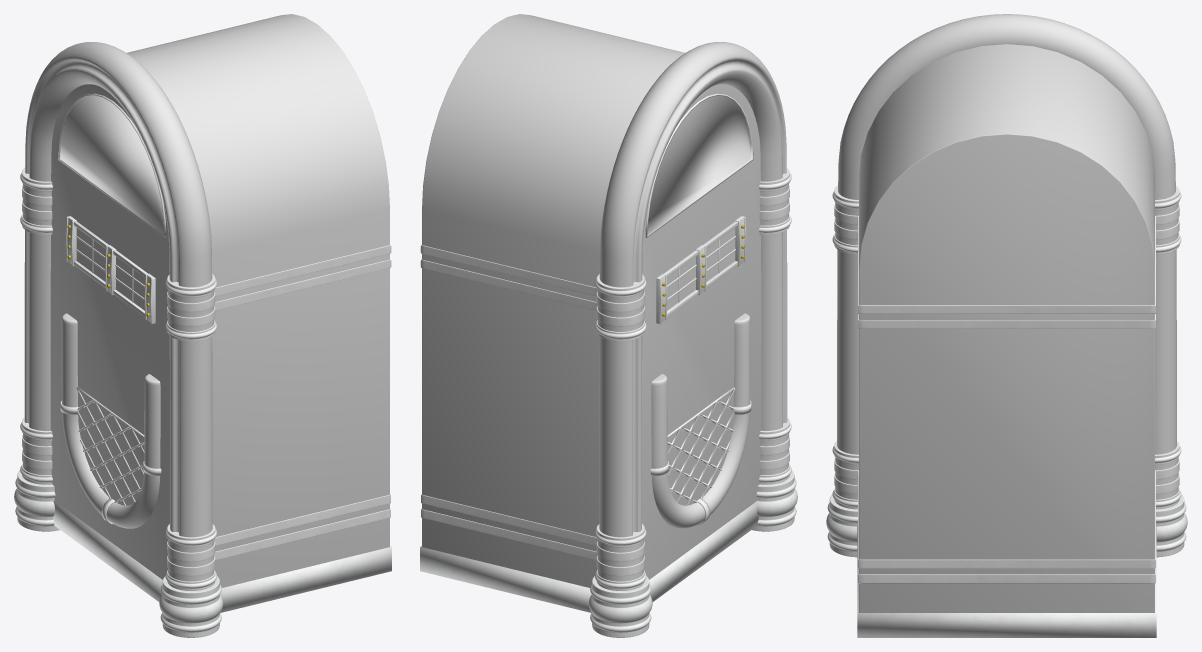
File: Jukebox.fbx
3 renders of one model, left to right at view 1: azimuth 30°, elevation 25°; view 2: azimuth 150°, elevation 25°; view 3: azimuth 270°, elevation 25°, orthographic.
Parts seen in each view (by area): view 1: jukebox; view 2: jukebox; view 3: jukebox.
Part boxes in pixels (box(x1,y1,x2,y2)): jukebox: box(14, 14, 391, 637); jukebox: box(420, 14, 797, 637); jukebox: box(826, 14, 1187, 637).
Bounding box in the file's own units: 72.39 × 158 × 97.6.
